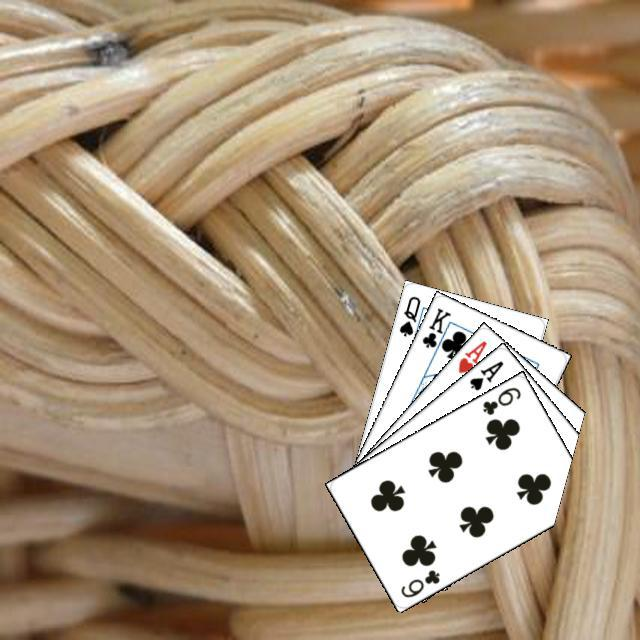6c: (395, 564, 442, 599), (478, 382, 523, 417)
Ah: (453, 335, 488, 375)
As: (464, 356, 505, 393)
Kc: (417, 303, 454, 358)
Qs: (394, 291, 422, 338)
